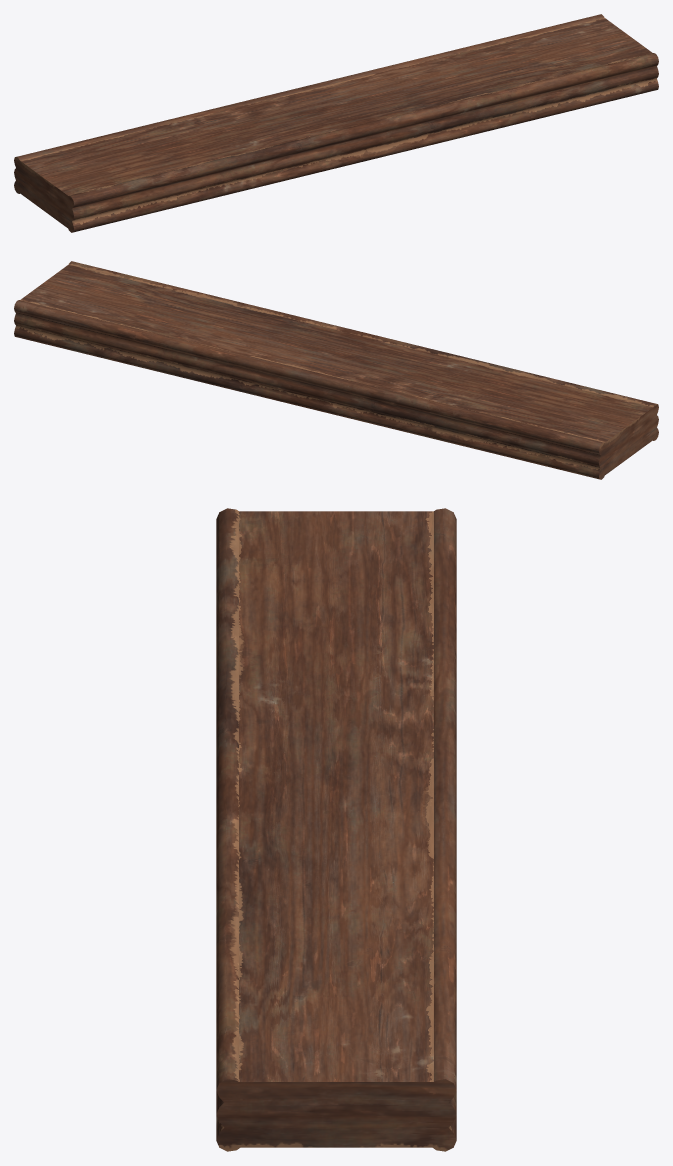
The model's file is Kit_WoodThickPlank.fbx.
3 renders of one model, top to bottom at view 1: azimuth 30°, elevation 25°; view 2: azimuth 150°, elevation 25°; view 3: azimuth 270°, elevation 25°, orthographic. The views are drawn at different scales.
Visible parts, largest first — view 1: Kit_WoodThickPlank; view 2: Kit_WoodThickPlank; view 3: Kit_WoodThickPlank.
Boxes of the visible parts, left/top/right/bottom form: Kit_WoodThickPlank: left=14, top=14, right=658, bottom=232; Kit_WoodThickPlank: left=14, top=261, right=658, bottom=479; Kit_WoodThickPlank: left=216, top=508, right=456, bottom=1151.
Bounding box in the file's own units: 157 × 9.33 × 28.05.
